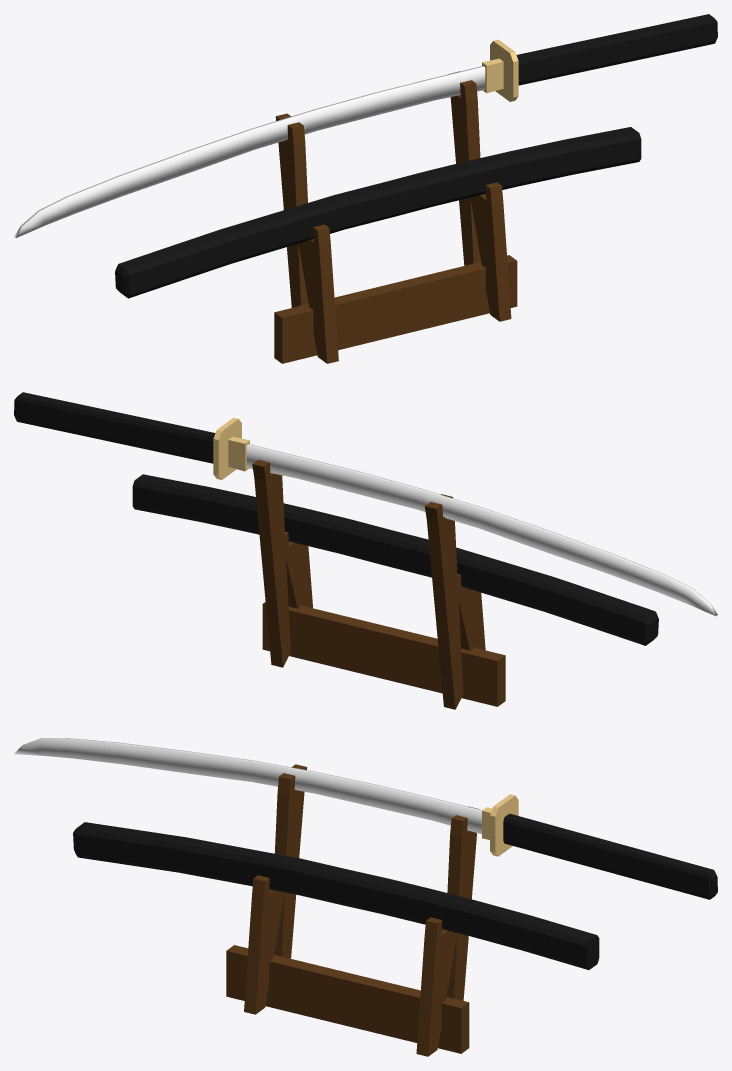
File: katana.fbx
3 renders of one model, top to bottom at view 1: azimuth 30°, elevation 25°; view 2: azimuth 150°, elevation 25°; view 3: azimuth 330°, elevation 25°, orthographic.
Parts seen in each view (by area): view 1: Cube.031, Cube.066, Cube.067; view 2: Cube.031, Cube.067, Cube.066; view 3: Cube.031, Cube.066, Cube.067.
Part boxes in pixels (left/top/right/bottom): Cube.031: left=274, top=71, right=517, bottom=363; Cube.066: left=115, top=127, right=641, bottom=298; Cube.067: left=14, top=14, right=717, bottom=237; Cube.031: left=252, top=459, right=505, bottom=709; Cube.067: left=14, top=392, right=717, bottom=616; Cube.066: left=132, top=474, right=658, bottom=645; Cube.031: left=226, top=764, right=479, bottom=1056; Cube.066: left=73, top=822, right=599, bottom=969; Cube.067: left=14, top=738, right=717, bottom=899.
Bounding box in the file's own units: 1073 × 349 × 141.
